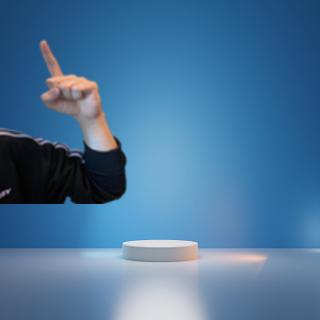IRRITATED: (33, 38, 103, 121)
